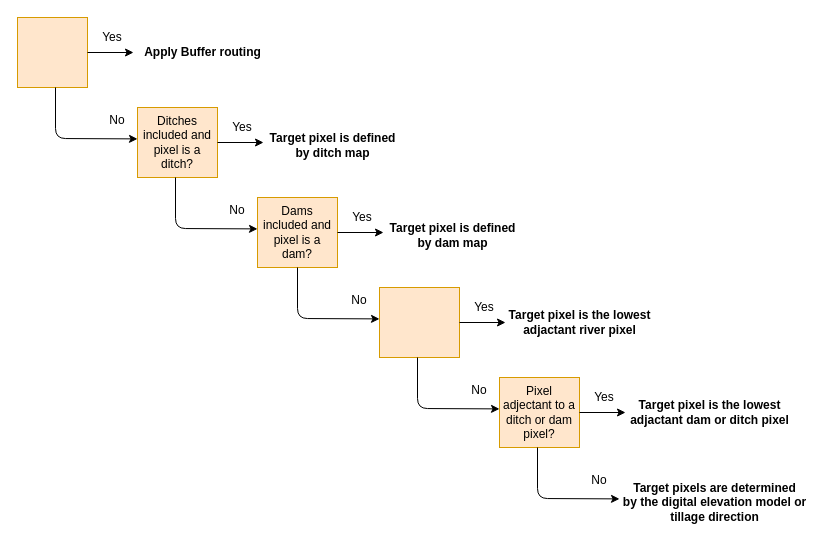
This 827x545 diagram has some shape labels left out. The box of each missing label's shape, as (x1, y1, x2, y2) in pixels:
Buffers included and pixel is a buffer?: (16, 16, 88, 88)
Pixel adjectant to a river pixel?: (378, 286, 460, 358)
